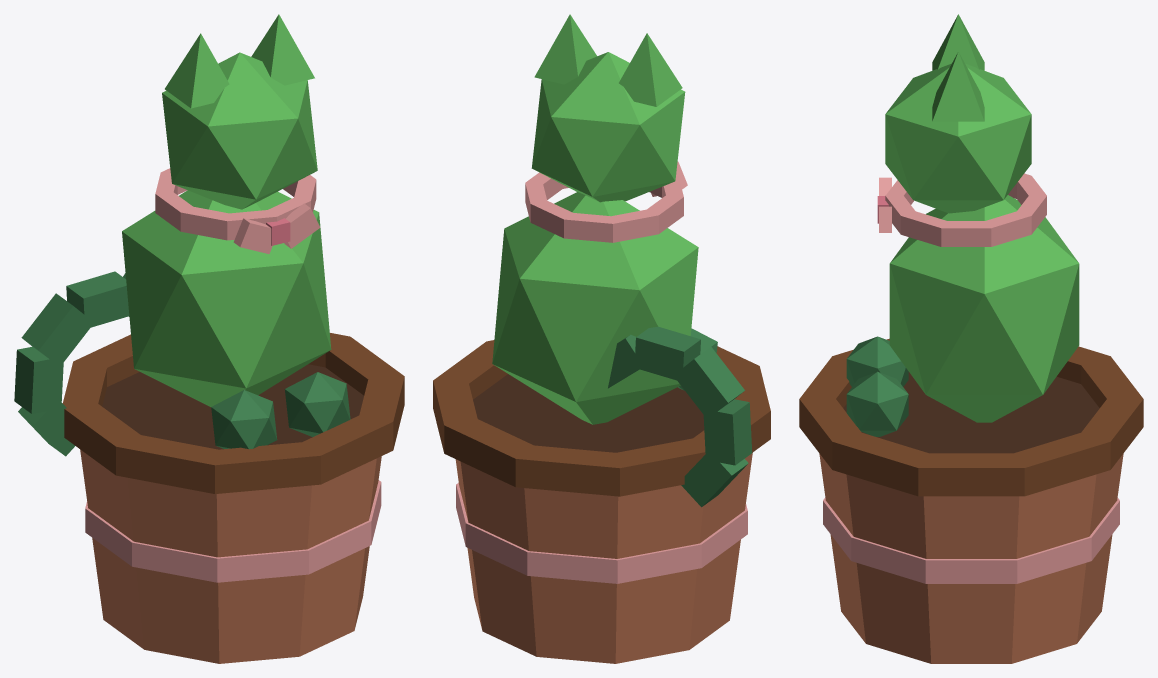
The model's file is CatCafe_Lawn_PottedCatTopiary.glb.
The picture shows the model from 3 angles, left to right: view 1: azimuth 30°, elevation 25°; view 2: azimuth 150°, elevation 25°; view 3: azimuth 270°, elevation 25°; orthographic projection.
Visible parts, largest first — view 1: CatCafe_Lawn_PottedCatTopiary; view 2: CatCafe_Lawn_PottedCatTopiary; view 3: CatCafe_Lawn_PottedCatTopiary.
Part boxes in pixels (x1,y1,x2,y2): CatCafe_Lawn_PottedCatTopiary: (14,14,404,663); CatCafe_Lawn_PottedCatTopiary: (433,14,770,663); CatCafe_Lawn_PottedCatTopiary: (799,14,1143,663).
Bounding box in the file's own units: 1.4 × 2.45 × 1.32.
1 material, 1 textured.
